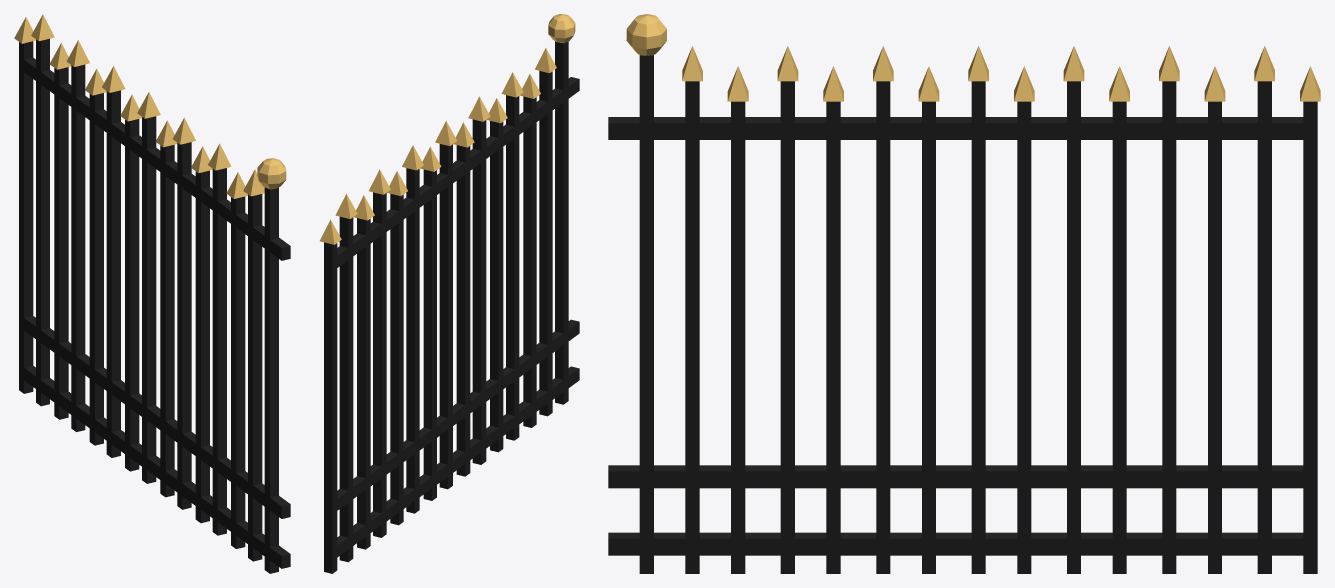
File: P_J_FENCE CONNECT 1 .fbx
3 renders of one model, left to right at view 1: azimuth 30°, elevation 25°; view 2: azimuth 150°, elevation 25°; view 3: azimuth 270°, elevation 25°, orthographic. The views are drawn at different scales.
Parts seen in each view (by area): view 1: J_Fence_Connect_01; view 2: J_Fence_Connect_01; view 3: J_Fence_Connect_01.
Boxes of the visible parts, bbox=[...] form: J_Fence_Connect_01: bbox=[14, 14, 290, 573]; J_Fence_Connect_01: bbox=[320, 14, 579, 573]; J_Fence_Connect_01: bbox=[608, 14, 1320, 573].
Bounding box in the file's own units: 17.45 × 264 × 307.
